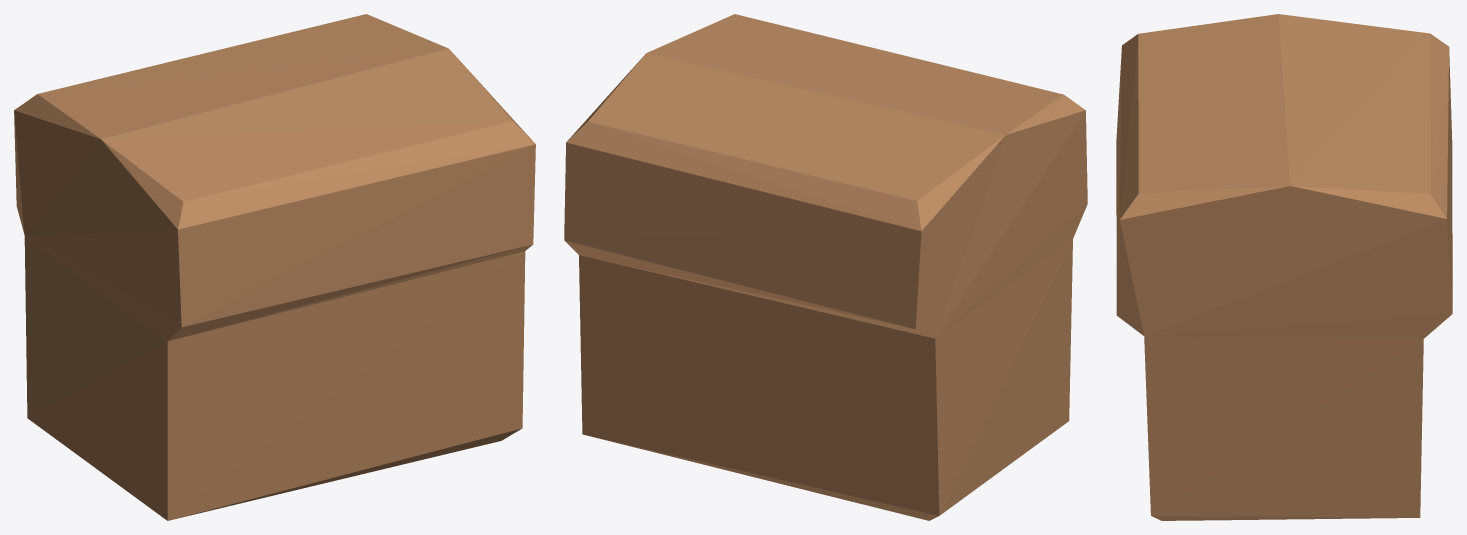
File: Food_03.fbx
3 renders of one model, left to right at view 1: azimuth 30°, elevation 25°; view 2: azimuth 150°, elevation 25°; view 3: azimuth 270°, elevation 25°, orthographic.
Parts seen in each view (by area): view 1: Food_03; view 2: Food_03; view 3: Food_03.
Part boxes in pixels (x1,y1,x2,y2): Food_03: (14, 14, 535, 520); Food_03: (564, 14, 1087, 520); Food_03: (1116, 14, 1452, 520).
Bounding box in the file's own units: 17.02 × 15.41 × 13.78.
